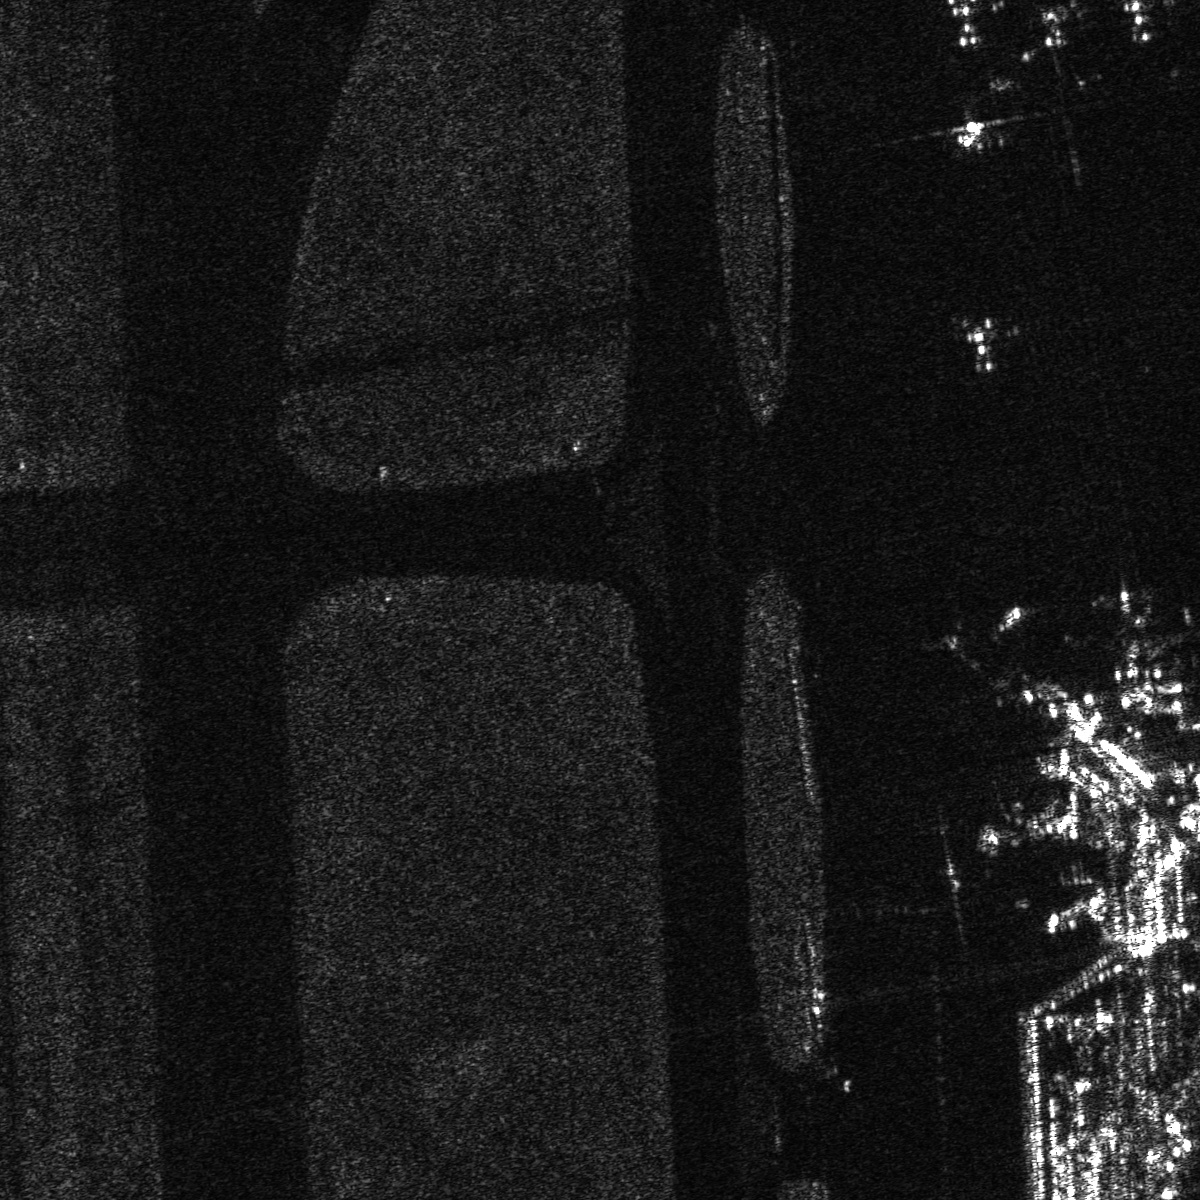ARJ21: (947, 309, 1025, 380), (940, 108, 1000, 160)
other: (1060, 586, 1199, 679), (936, 1, 1003, 56), (1026, 1, 1088, 58), (1110, 1, 1176, 51)
